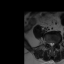CCS_normal: (51, 41, 52, 49)
LFS_severe_stenosis: (54, 41, 57, 46)
LLS_stenosis: (52, 41, 54, 47)
RFS_stenosis: (47, 40, 49, 46)
RLS_normal: (49, 41, 51, 46)
